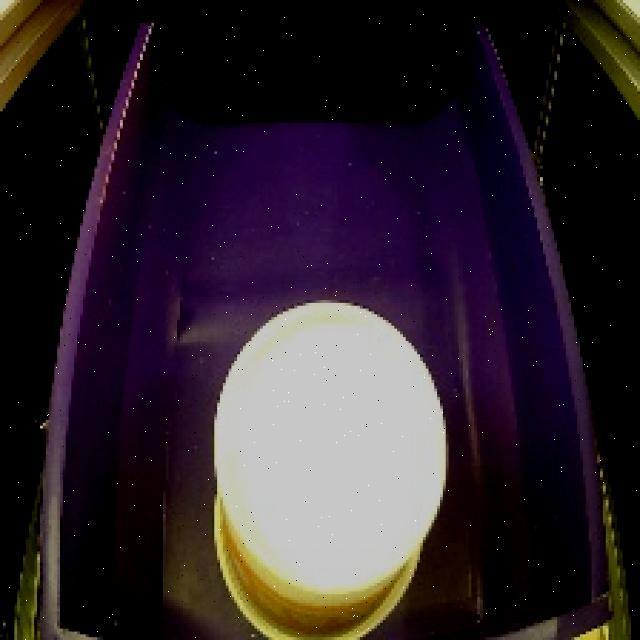cups: (202, 291, 456, 640)
